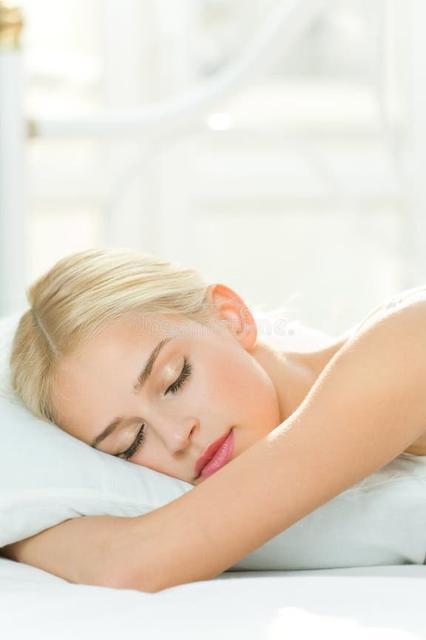sleep: (51, 307, 280, 485)
